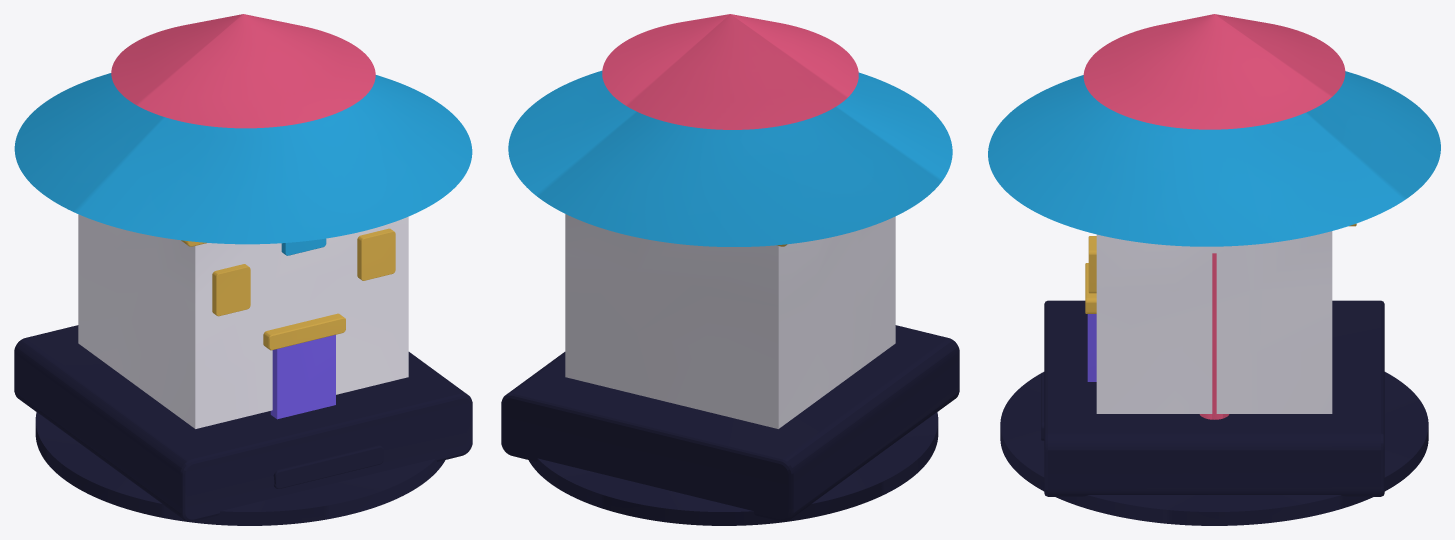
Rendered from 0801_中国建筑图鉴_土楼.glb.
The picture shows the model from 3 angles, left to right: view 1: azimuth 30°, elevation 25°; view 2: azimuth 150°, elevation 25°; view 3: azimuth 270°, elevation 25°; orthographic projection.
Parts seen in each view (by area): view 1: card_0801; view 2: card_0801; view 3: card_0801.
Part boxes in pixels (left/top/right/bottom): card_0801: left=14, top=14, right=472, bottom=525; card_0801: left=501, top=14, right=959, bottom=525; card_0801: left=988, top=14, right=1440, bottom=525.
Bounding box in the file's own units: 0.9669 × 1 × 0.9669.
